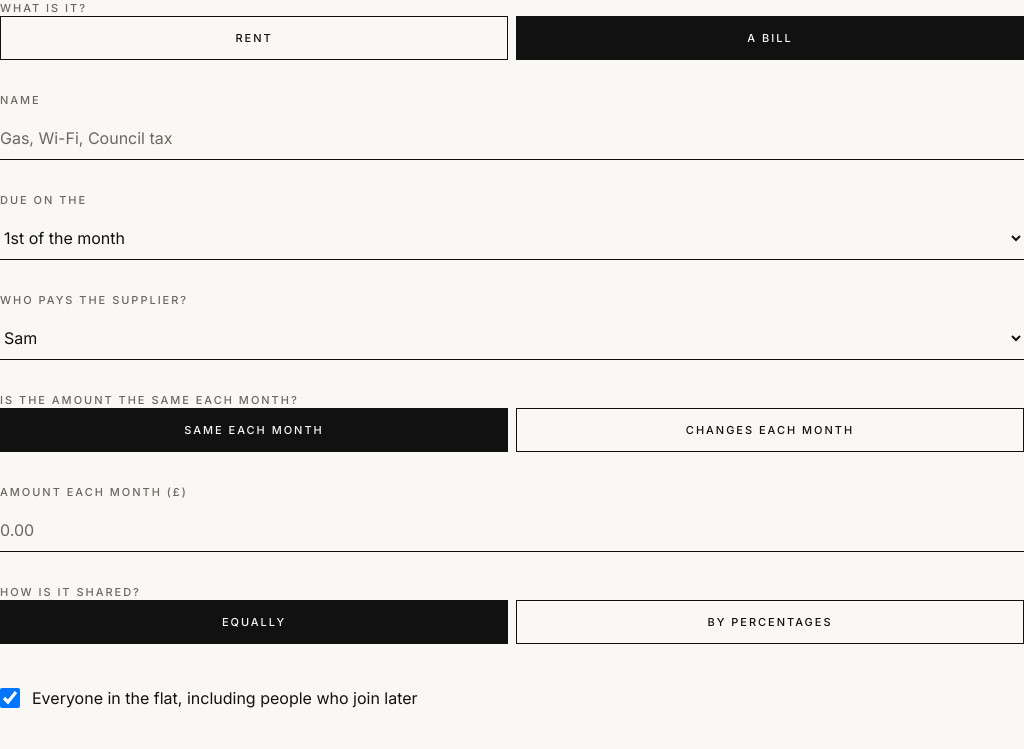
Scenario: TemplateForm: a bill › explains how a variable bill works and hides the amount
Click the button "Changes each month".
click(770, 430)  # box x1=516 y1=408 x2=1023 y2=452
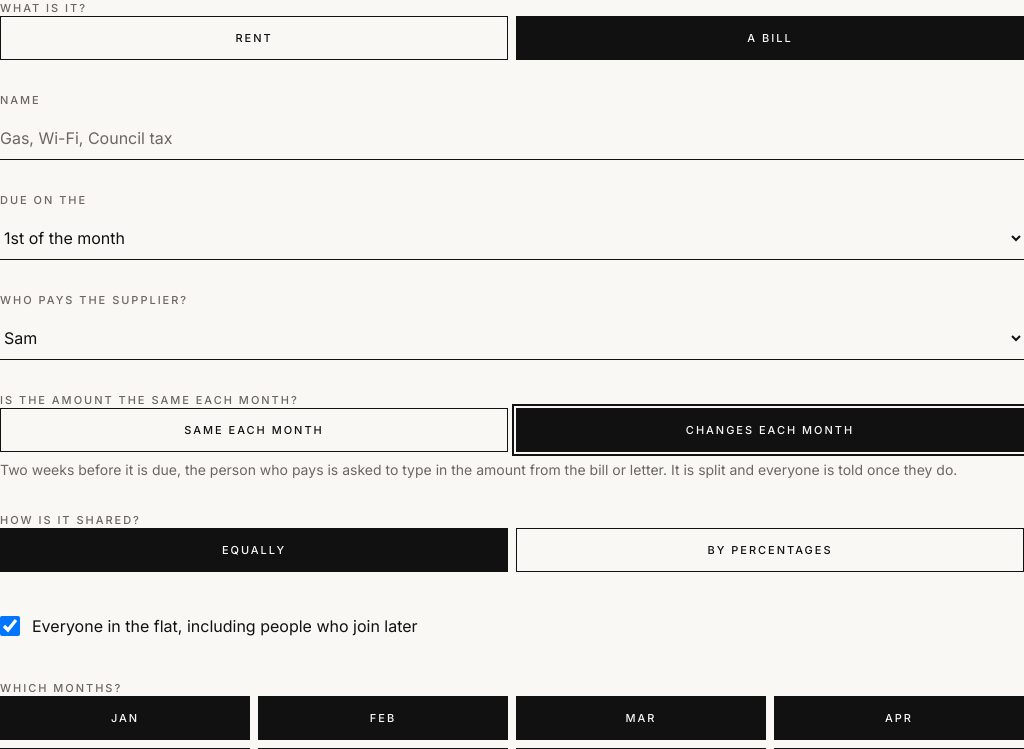
Result: the text "Two weeks before it is due" is shown at x1=0 y1=461 x2=957 y2=478
Result: the label labelled "Amount each month (£)" is gone
